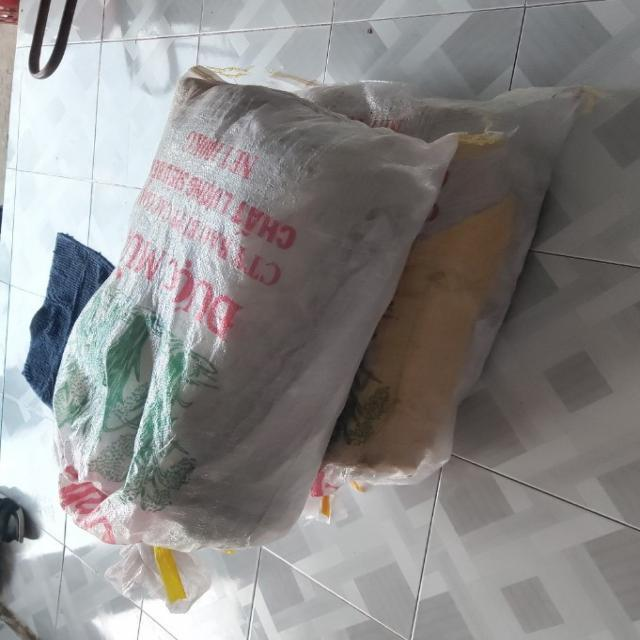gunny_bag: (54, 78, 458, 552), (302, 81, 597, 491)
